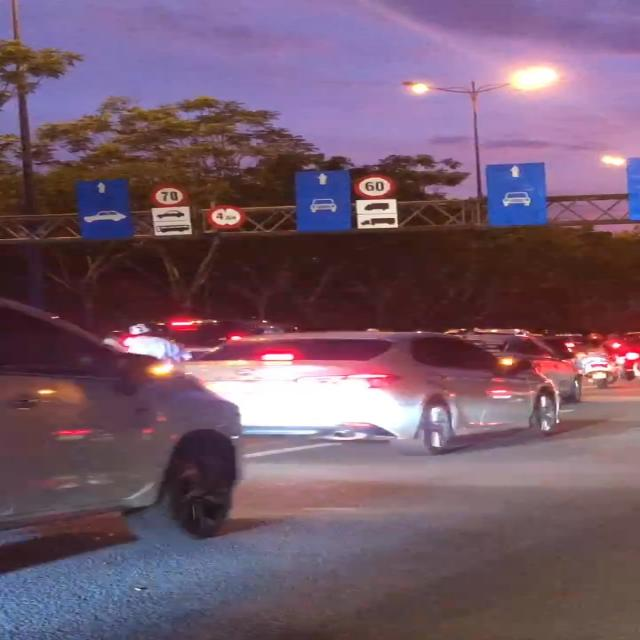Bien bao han che chieu cao: (209, 202, 243, 230)
Bien bao toc do toi da cho phep: (349, 173, 400, 200), (148, 184, 188, 207)
